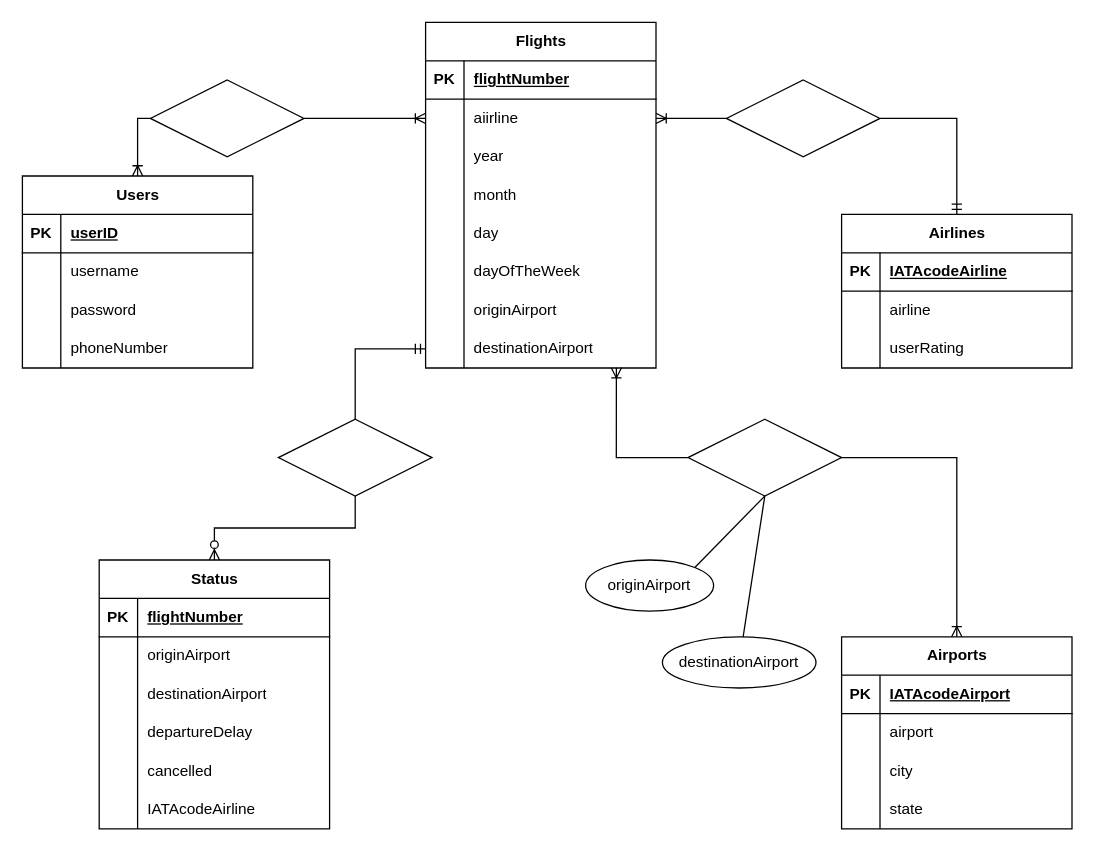
This 1094x851 diagram has some shape labels left out. Here are the shapes that lost their labels. From the top down, the centre of each, then its label:
pixel 226 118: Booking
pixel 802 118: Operated by
pixel 354 457: Disruption
pixel 764 457: Path
